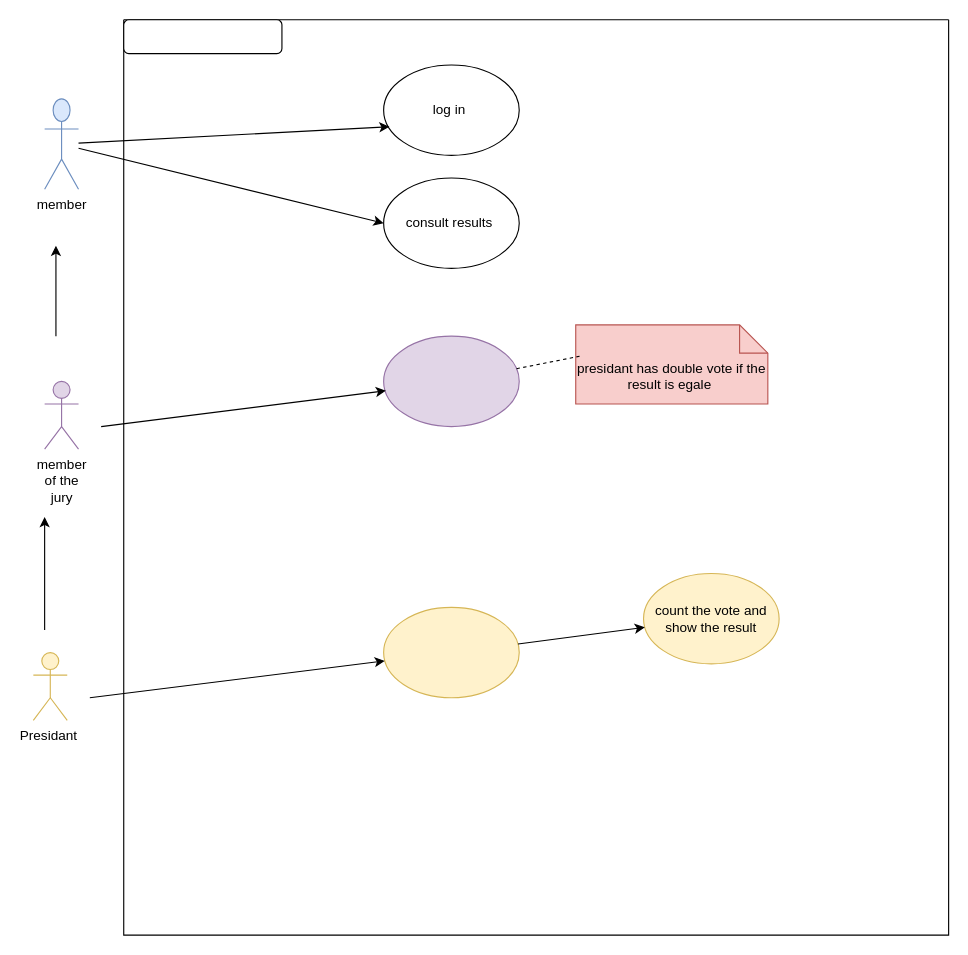
Image size: 968x955. Some labels were removed from this diagram. The centre of each missing label's shape, as x and y in pixels:
manage_selection for second and third tour: the point at 451,652
prix_goncourt use case: the point at 202,36
vote: the point at 451,381
